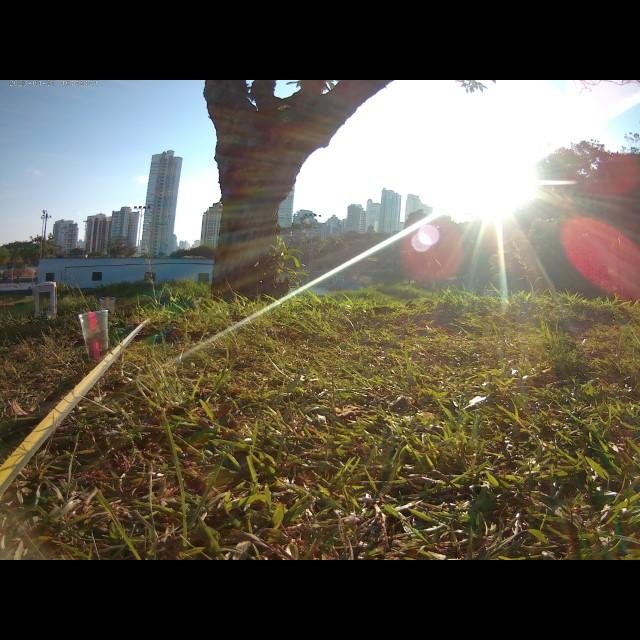arvore: (194, 81, 399, 301)
